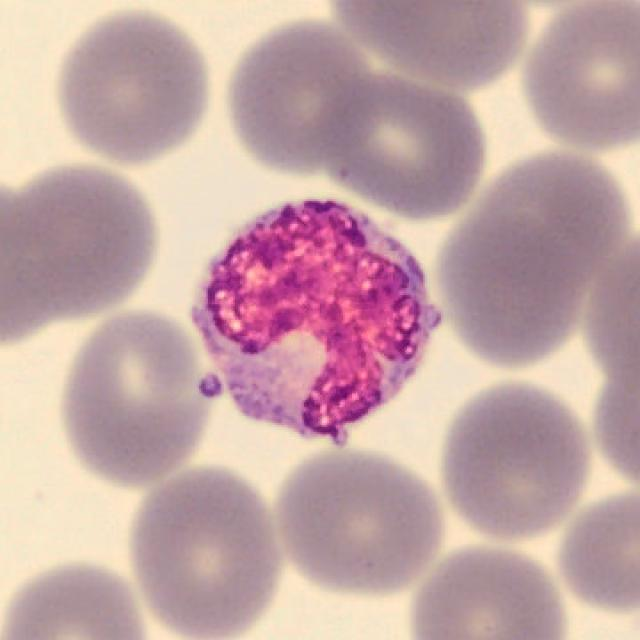Linfocito atipico: (190, 199, 441, 446)
